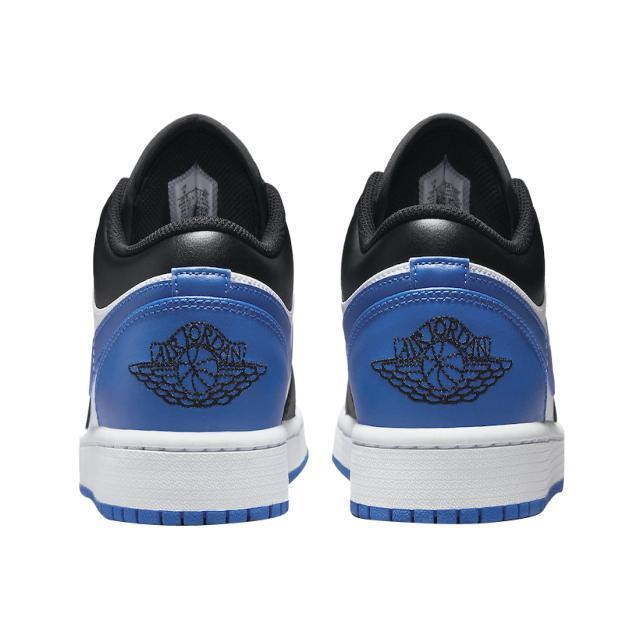nike original jordan 1: (332, 111, 570, 524), (78, 111, 312, 527)
